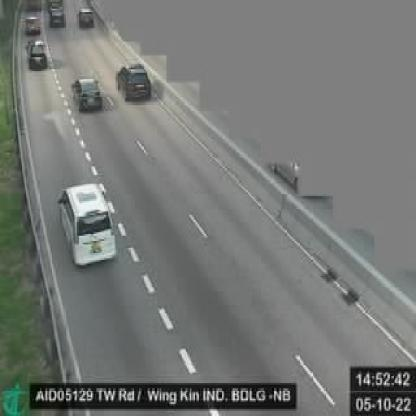Car: (60, 184, 117, 265), (113, 61, 151, 100), (69, 76, 103, 111), (26, 38, 44, 71), (78, 7, 95, 31), (49, 8, 65, 28), (25, 16, 40, 36)
